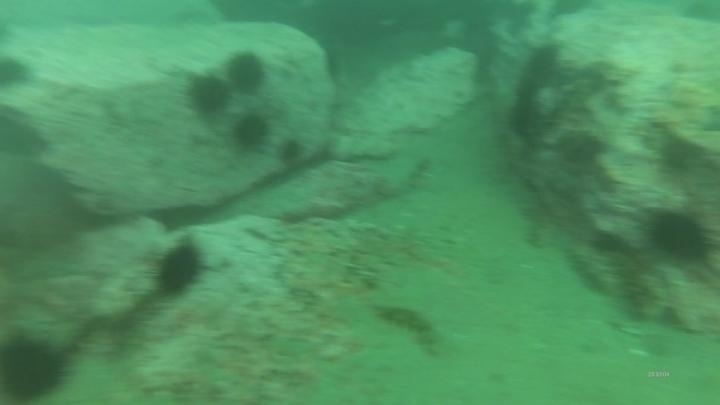echinus: (1, 331, 72, 404), (642, 205, 715, 268), (149, 239, 208, 300), (184, 72, 232, 118), (224, 49, 269, 95), (523, 41, 563, 88), (230, 110, 272, 153), (1, 53, 33, 93), (275, 136, 306, 168)
holothurian: (372, 298, 448, 360), (563, 238, 627, 300), (514, 194, 558, 254)
